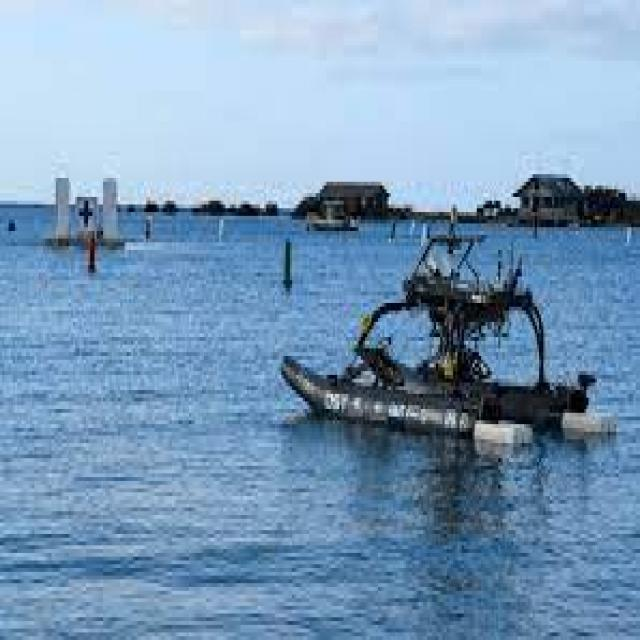Green_Buoy: (278, 237, 298, 295)
Red_Buoy: (82, 240, 102, 278)
Wam_V: (255, 277, 627, 458)
